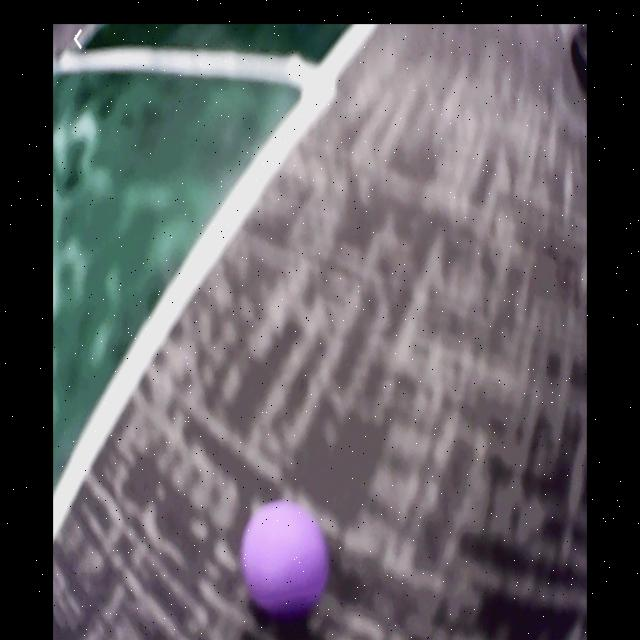ball: (240, 500, 330, 609)
